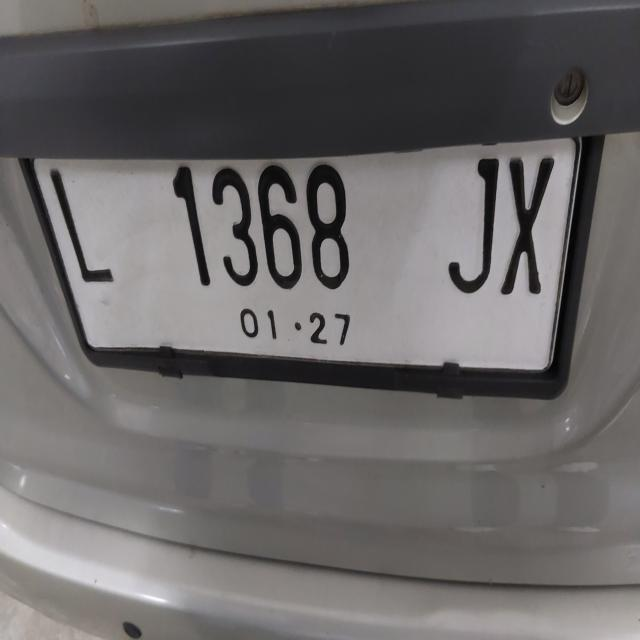1: (162, 148, 223, 318)
3: (206, 152, 261, 294)
6: (252, 146, 314, 297)
8: (302, 152, 359, 294)
J: (438, 136, 506, 303)
L: (32, 132, 119, 305)
X: (498, 130, 554, 322)
